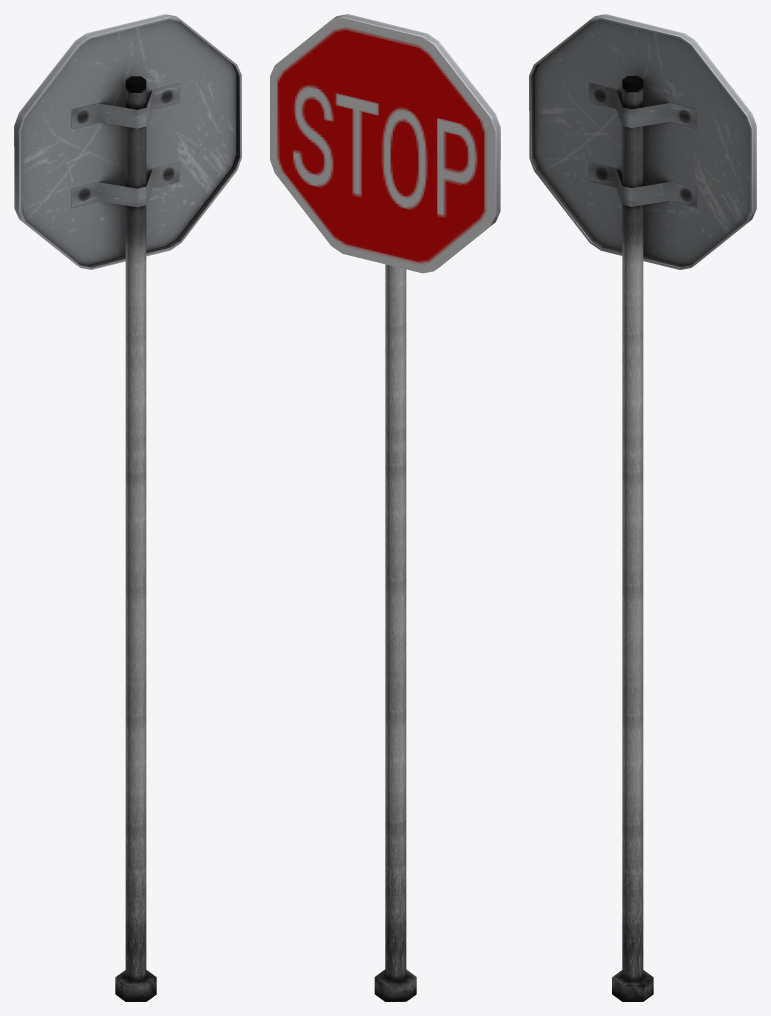
The model's file is TRF0310002.FBX.
The picture shows the model from 3 angles, left to right: view 1: azimuth 30°, elevation 25°; view 2: azimuth 150°, elevation 25°; view 3: azimuth 330°, elevation 25°; orthographic projection.
Parts seen in each view (by area): view 1: smTRF0310002; view 2: smTRF0310002; view 3: smTRF0310002.
Boxes of the visible parts, x1,y1,x2,y2 form: smTRF0310002: [14, 14, 241, 1001]; smTRF0310002: [270, 14, 500, 1001]; smTRF0310002: [529, 14, 756, 1001].
Bounding box in the file's own units: 71.11 × 294 × 12.26.
Materials: 1 (1 with a texture image).
